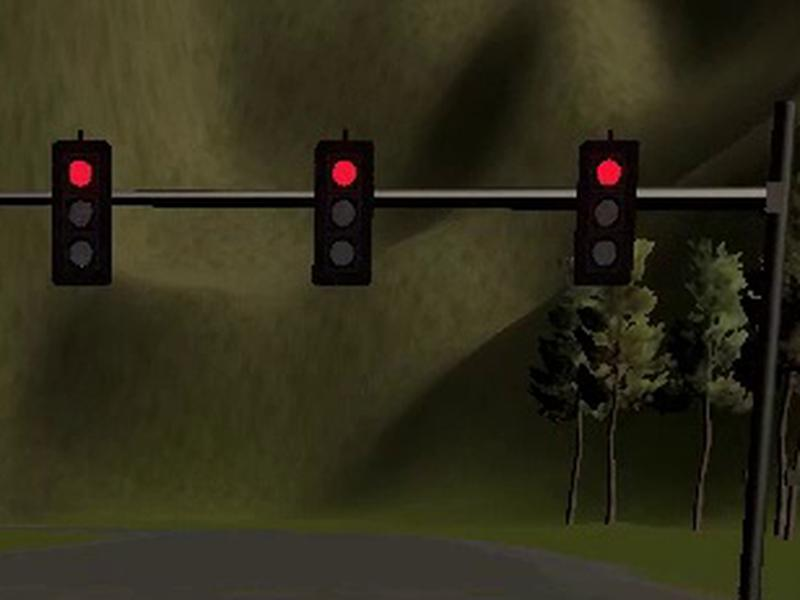Red: (50, 137, 112, 285), (311, 139, 373, 285), (575, 142, 639, 283)
